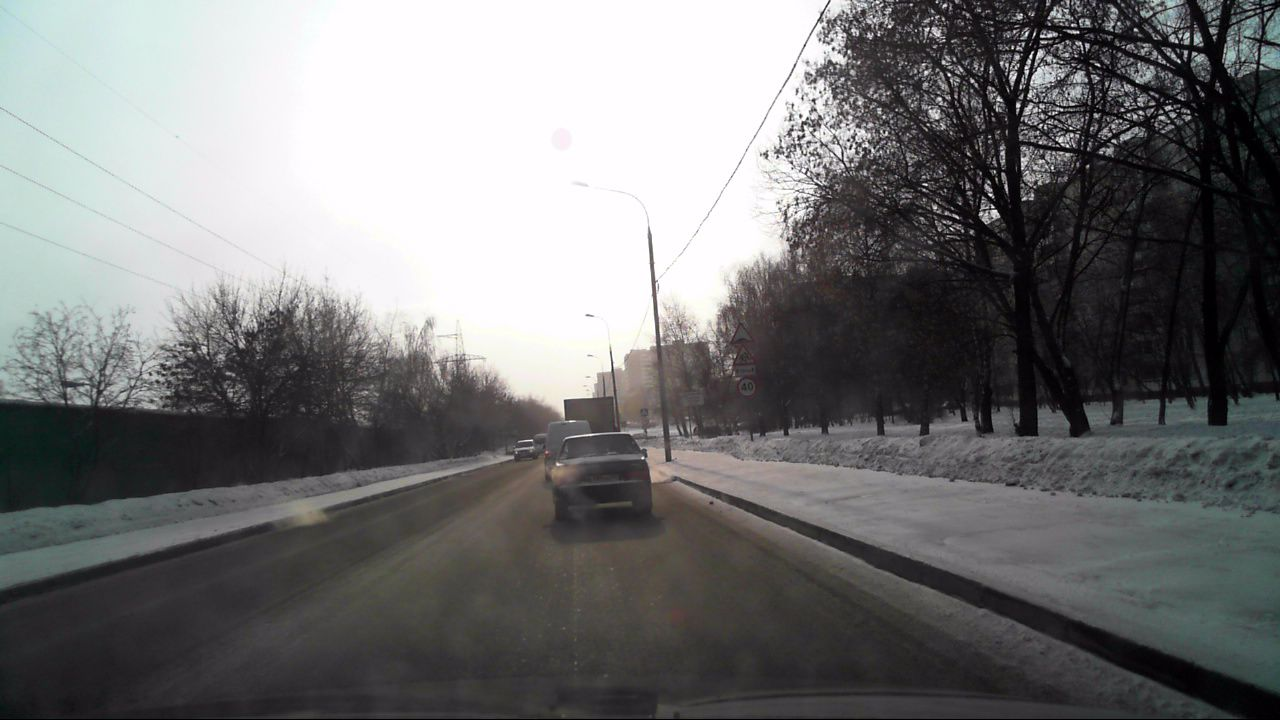speed_warning_40: (738, 378, 756, 397)
